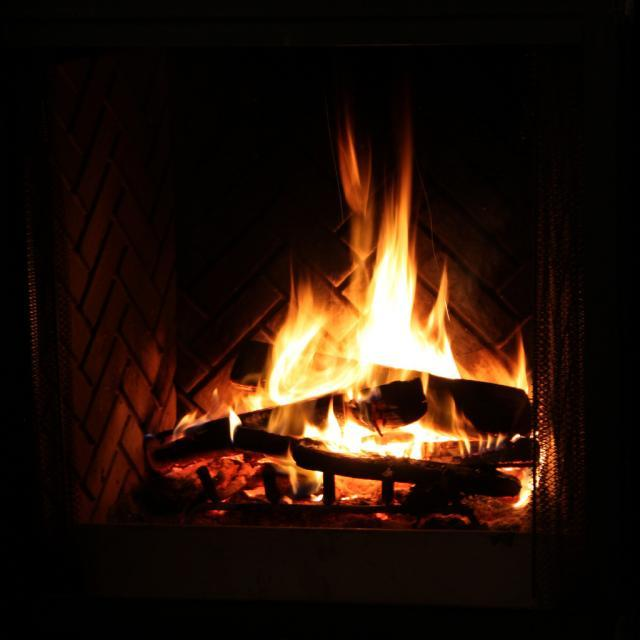Fire: (279, 264, 456, 414)
